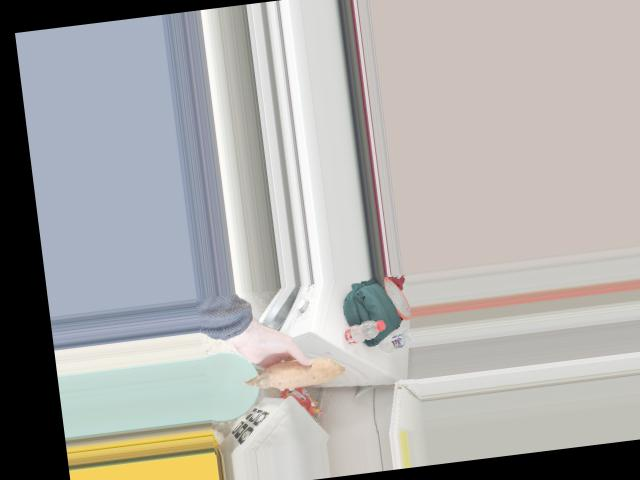sweet_potato: (254, 357, 343, 390)
